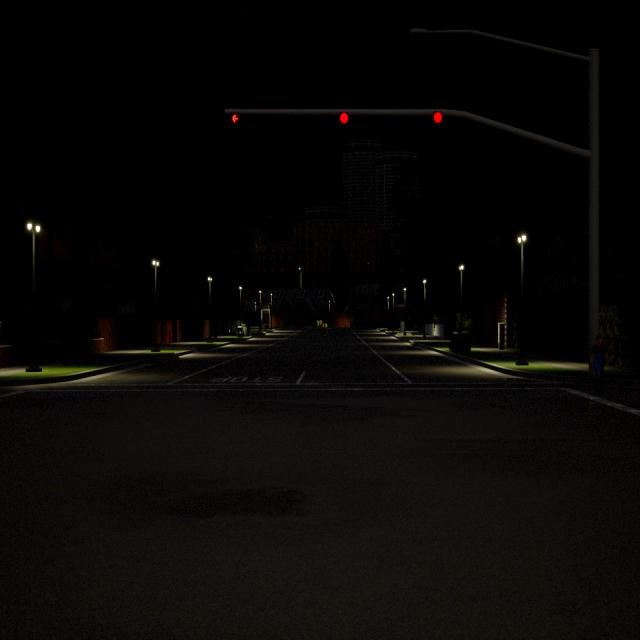Pedestrian: (590, 333, 608, 388)
traffic_light: (339, 112, 349, 124), (433, 111, 442, 122), (232, 114, 238, 123)
